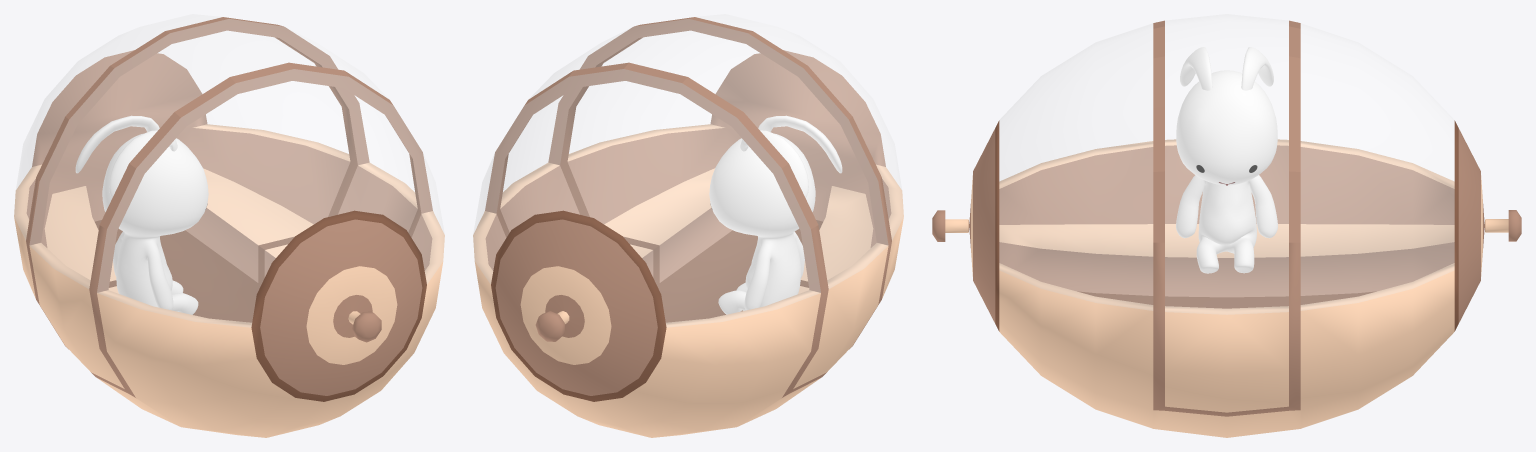
File: ball.glb
3 renders of one model, left to right at view 1: azimuth 30°, elevation 25°; view 2: azimuth 150°, elevation 25°; view 3: azimuth 270°, elevation 25°, orthographic. The views are drawn at different scales.
Parts seen in each view (by area): view 1: Ferris_wheel_ball, Ferris_wheel_ball_glass, qmimi_body; view 2: Ferris_wheel_ball, Ferris_wheel_ball_glass, qmimi_body; view 3: Ferris_wheel_ball, Ferris_wheel_ball_glass, qmimi_body.
Part boxes in pixels (x1,y1,x2,y2): Ferris_wheel_ball: [14, 17, 444, 437]; Ferris_wheel_ball_glass: [14, 14, 444, 327]; qmimi_body: [75, 115, 208, 314]; Ferris_wheel_ball: [473, 17, 903, 437]; Ferris_wheel_ball_glass: [473, 14, 903, 327]; qmimi_body: [709, 115, 842, 314]; Ferris_wheel_ball: [932, 20, 1521, 437]; Ferris_wheel_ball_glass: [999, 14, 1454, 314]; qmimi_body: [1176, 47, 1277, 273].
Size of the model in its own units: 8 by 8 by 11.21.
Materials: 2 (2 with a texture image).
